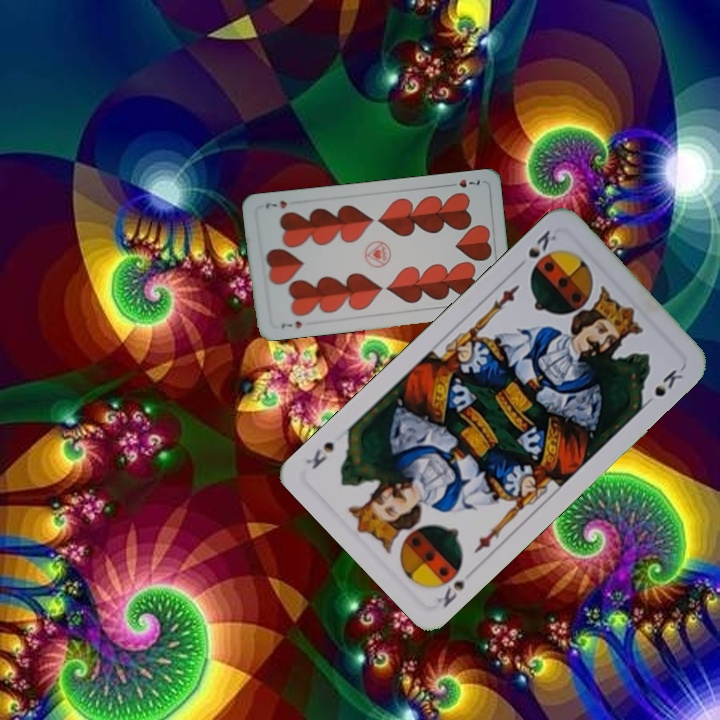H7: (444, 175, 482, 190), (277, 317, 304, 332)
SK: (432, 559, 477, 611), (524, 225, 559, 261)
